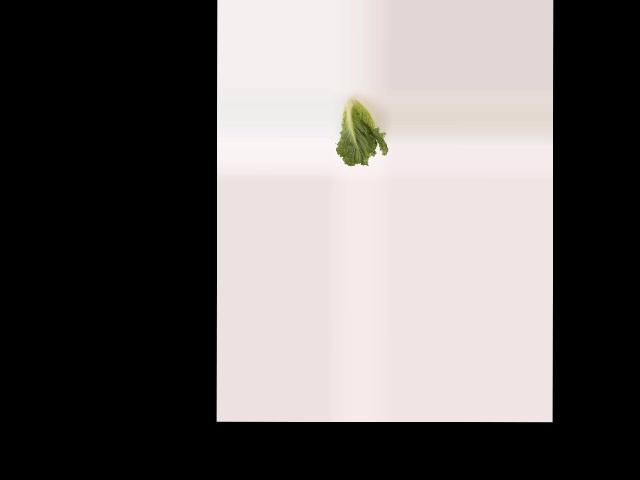lettuce: (334, 91, 385, 168)
